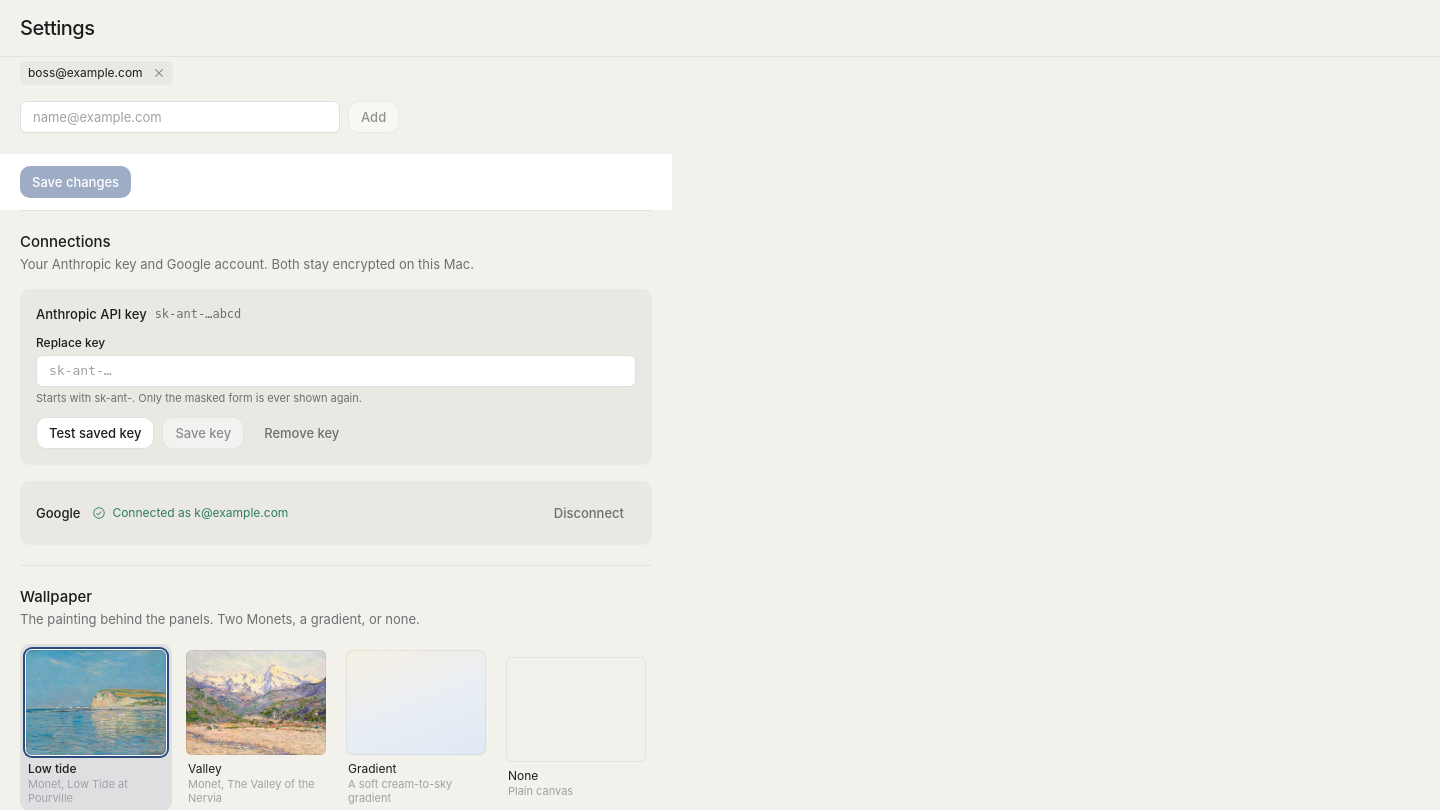
Test: SettingsPage › removes the saved key and refreshes
The width and height of the screenshot is (1440, 810).
(page scrolled)
Click the button "Remove key": (302, 433) [252,417,351,449]
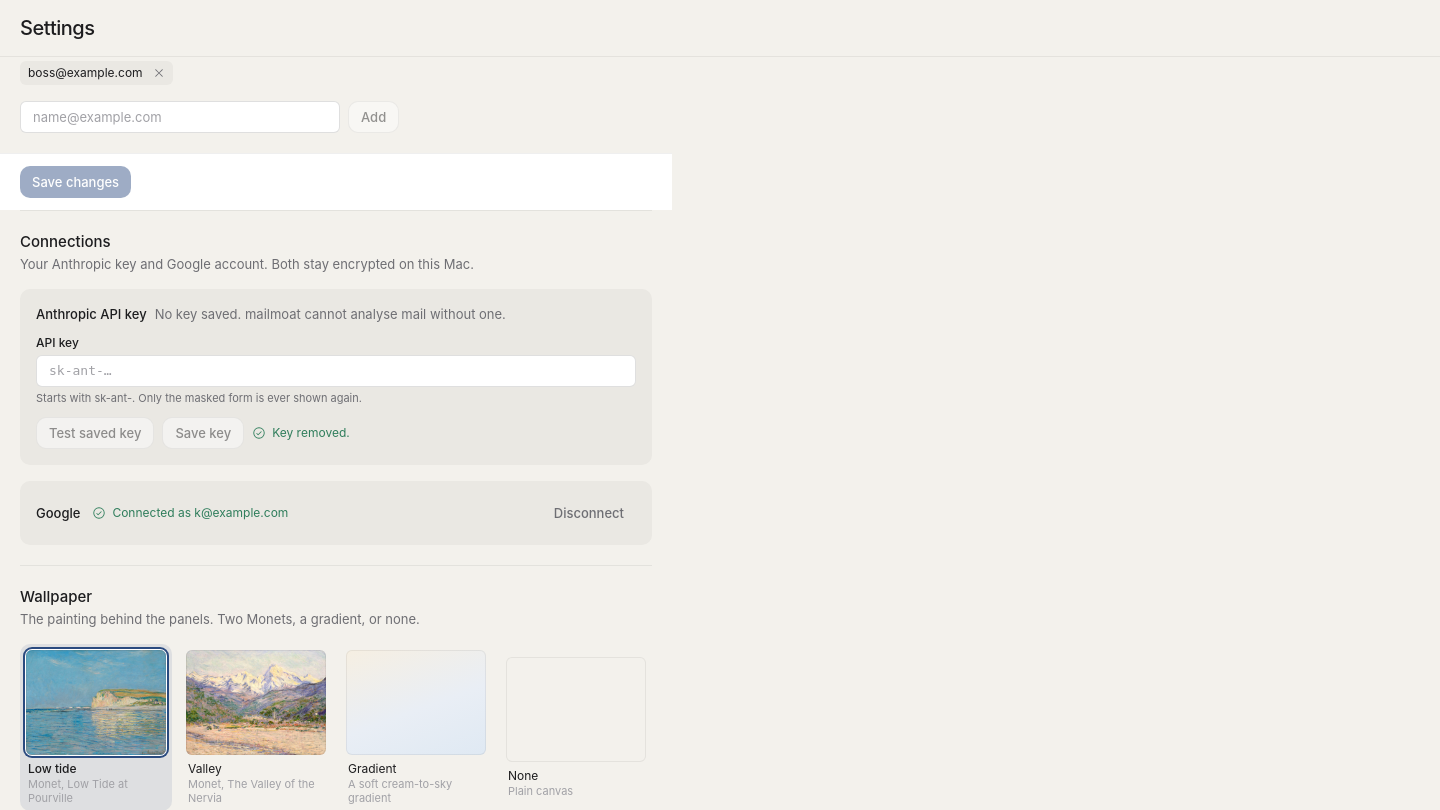
expect the text "No key saved. mailmoat cannot analyse mail without one." is shown: met, box [155,305,506,323]
